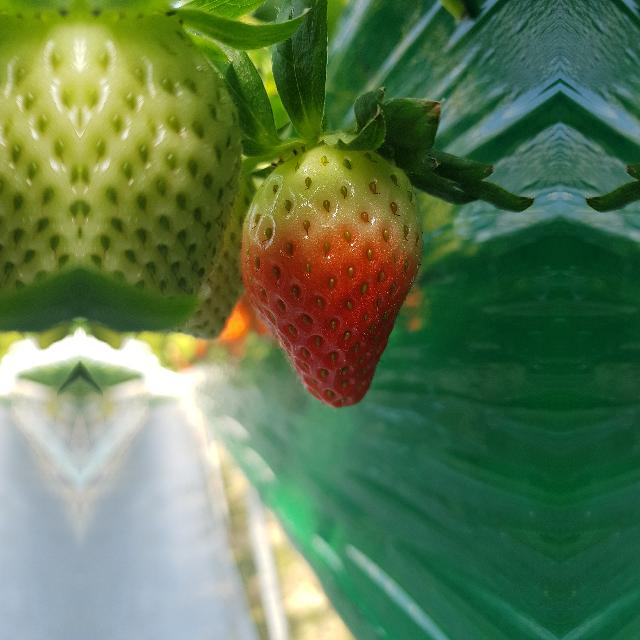Health_25: (80, 0, 244, 300), (0, 0, 80, 300)
Health_75: (240, 144, 424, 408)
